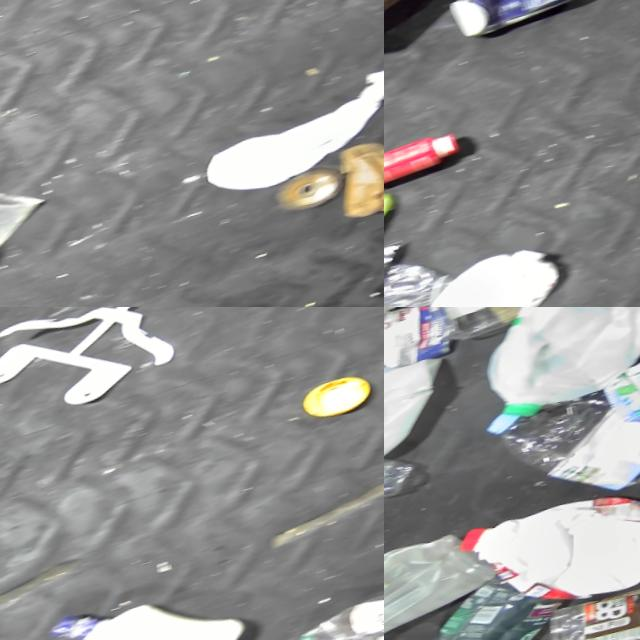can: (443, 0, 588, 46)
milk_jug: (450, 475, 640, 636), (462, 307, 640, 430), (384, 522, 502, 640), (384, 348, 464, 504), (395, 238, 573, 307)
plastic_bottle: (481, 360, 640, 529), (384, 228, 458, 307)
